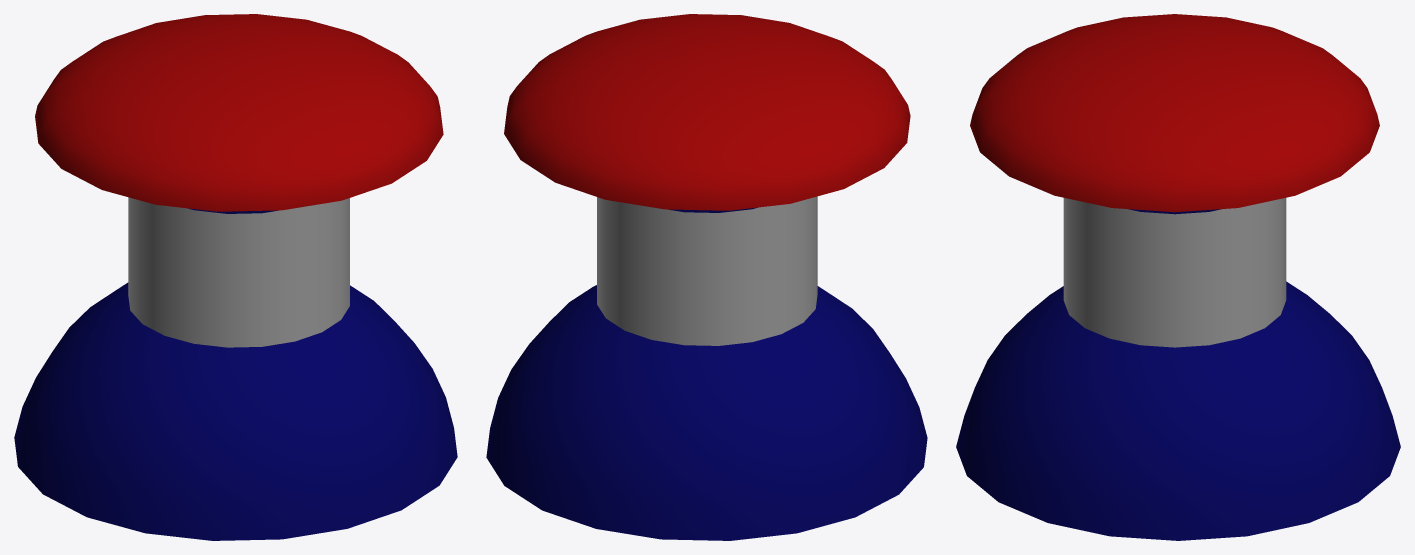
Rendered from S3_Top_NoAntenna.fbx.
The picture shows the model from 3 angles, left to right: view 1: azimuth 30°, elevation 25°; view 2: azimuth 150°, elevation 25°; view 3: azimuth 270°, elevation 25°; orthographic projection.
Visible parts, largest first — view 1: pSphere6; view 2: pSphere6; view 3: pSphere6.
Part boxes in pixels (<box>): pSphere6: <box>14,14,457,540</box>; pSphere6: <box>486,14,927,540</box>; pSphere6: <box>956,14,1400,540</box>.
Bounding box in the file's own units: 13.52 × 13.17 × 13.52.
